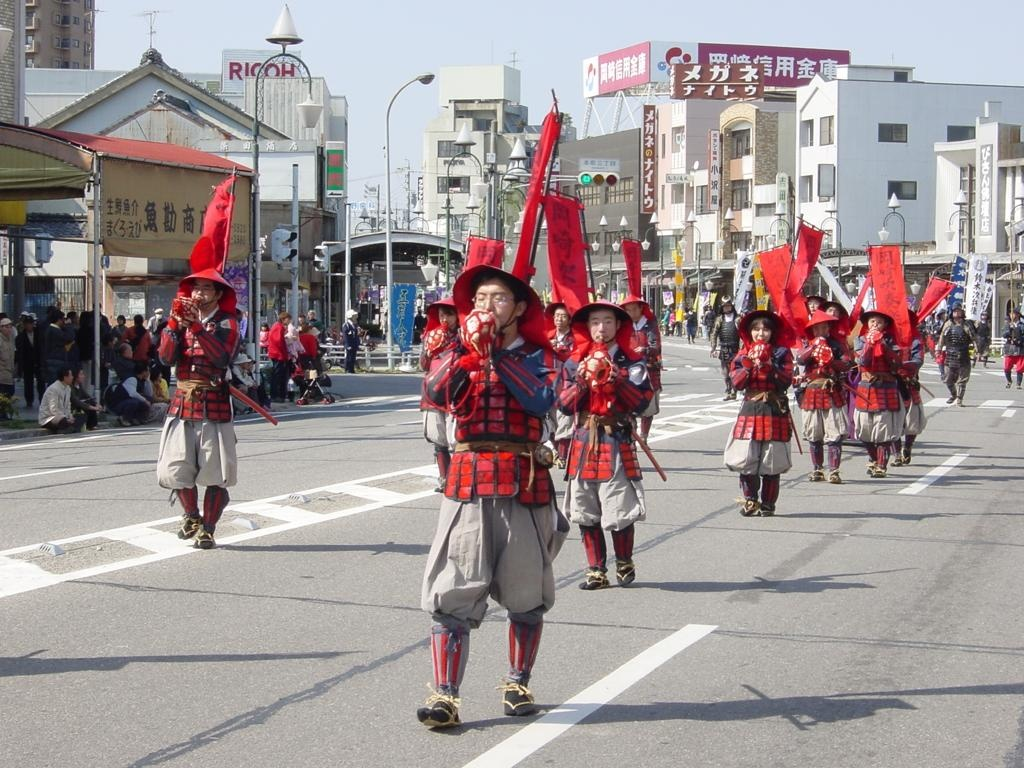human_face: (474, 276, 516, 326), (588, 309, 616, 343), (190, 276, 216, 308), (750, 318, 772, 344), (437, 302, 457, 328), (552, 308, 570, 326), (624, 302, 640, 320), (868, 316, 884, 334), (814, 320, 828, 338), (825, 306, 839, 320), (806, 298, 820, 312), (62, 370, 72, 384), (76, 370, 84, 382), (124, 346, 132, 358), (2, 322, 10, 334), (722, 302, 730, 312), (140, 366, 148, 376), (110, 337, 118, 347), (952, 308, 960, 316), (56, 316, 64, 324), (282, 316, 290, 324), (248, 360, 254, 370), (26, 322, 32, 330), (242, 358, 248, 366), (350, 312, 356, 320), (156, 372, 162, 378), (156, 311, 162, 317), (261, 324, 267, 330), (306, 313, 312, 319), (118, 318, 122, 324), (298, 316, 302, 322), (1010, 312, 1016, 316), (982, 314, 986, 318)
